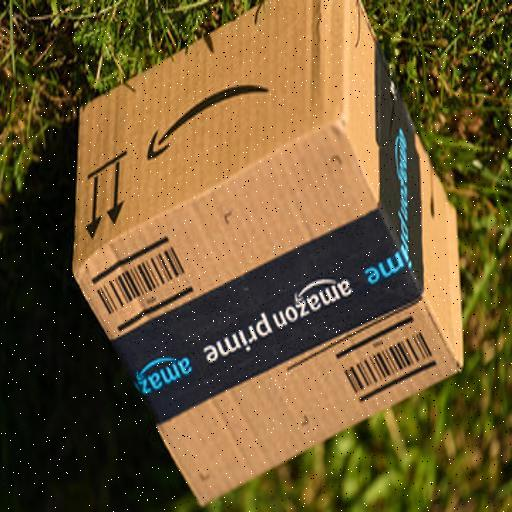Amazon: (70, 2, 465, 510)
